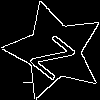Z: (29, 26, 83, 81)
